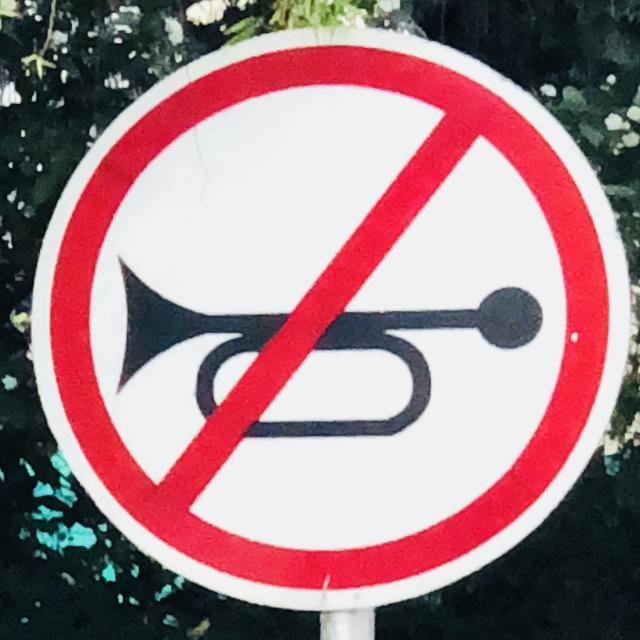horn prohibited: (43, 42, 610, 589)
